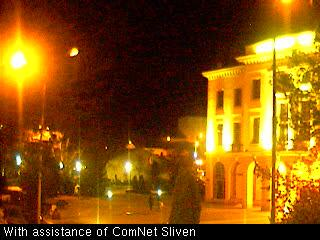person: (156, 194, 164, 213), (148, 195, 156, 214)
